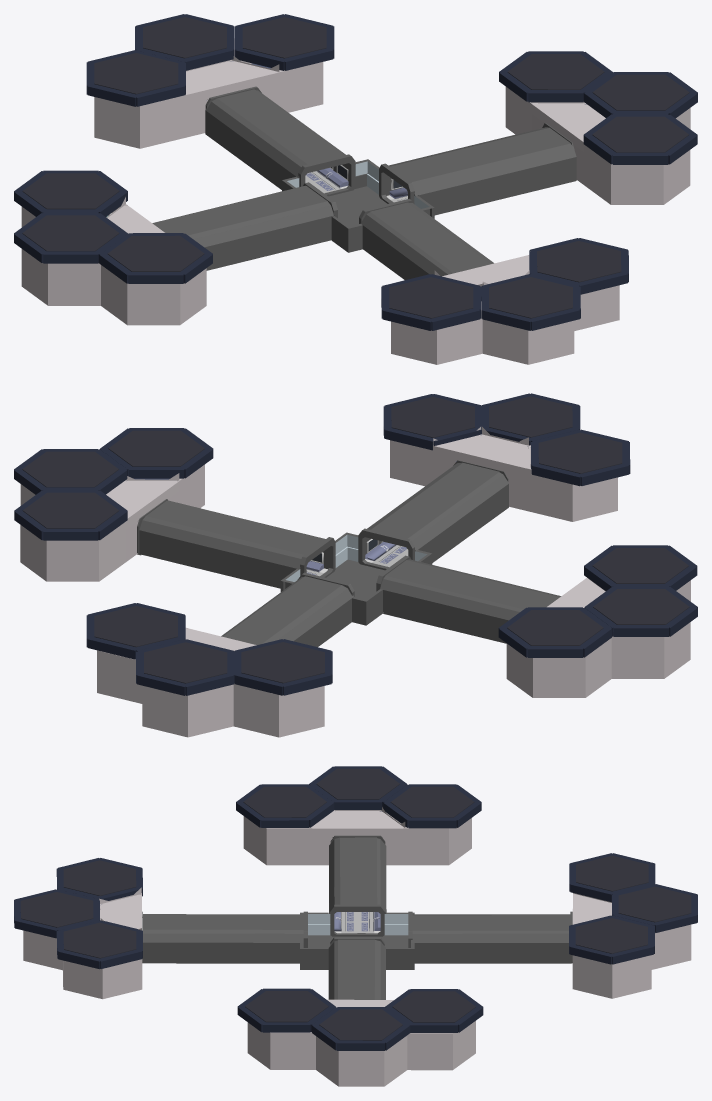
Rendered from Bunker.glb.
The picture shows the model from 3 angles, top to bottom: view 1: azimuth 30°, elevation 25°; view 2: azimuth 150°, elevation 25°; view 3: azimuth 270°, elevation 25°; orthographic projection. The views are drawn at different scales.
Parts seen in each view (by area): view 1: Cube.001, base, left_bay_hexagonal_ceiling_panel.003, left_bay_hexagonal_ceiling_panel.001, left_bay_hexagonal_ceiling_panel.005, left_bay_hexagonal_ceiling_panel.008; view 2: Cube.001, base, left_bay_hexagonal_ceiling_panel.005, left_bay_hexagonal_ceiling_panel.008, left_bay_hexagonal_ceiling_panel.001, left_bay_hexagonal_ceiling_panel.003; view 3: Cube.001, base, left_bay_hexagonal_ceiling_panel.001, left_bay_hexagonal_ceiling_panel.008, left_bay_hexagonal_ceiling_panel.005, left_bay_hexagonal_ceiling_panel.003.
Part boxes in pixels (box(x1,y1,x2,y2)): Cube.001: box(21, 38, 690, 364); base: box(152, 89, 576, 279); left_bay_hexagonal_ceiling_panel.003: box(381, 238, 628, 330); left_bay_hexagonal_ceiling_panel.001: box(499, 51, 697, 164); left_bay_hexagonal_ceiling_panel.005: box(86, 14, 334, 106); left_bay_hexagonal_ceiling_panel.008: box(14, 170, 212, 283); Cube.001: box(20, 426, 690, 737); base: box(139, 462, 561, 647); left_bay_hexagonal_ceiling_panel.005: box(86, 603, 332, 695); left_bay_hexagonal_ceiling_panel.008: box(498, 545, 697, 657); left_bay_hexagonal_ceiling_panel.001: box(14, 428, 213, 540); left_bay_hexagonal_ceiling_panel.003: box(383, 393, 630, 486); Cube.001: box(23, 807, 691, 1086); base: box(142, 837, 571, 999); left_bay_hexagonal_ceiling_panel.001: box(237, 988, 483, 1050); left_bay_hexagonal_ceiling_panel.008: box(236, 766, 481, 828); left_bay_hexagonal_ceiling_panel.005: box(569, 853, 697, 964); left_bay_hexagonal_ceiling_panel.003: box(14, 858, 142, 969).
Size of the model in its own units: 98.27 by 8.18 by 102.
